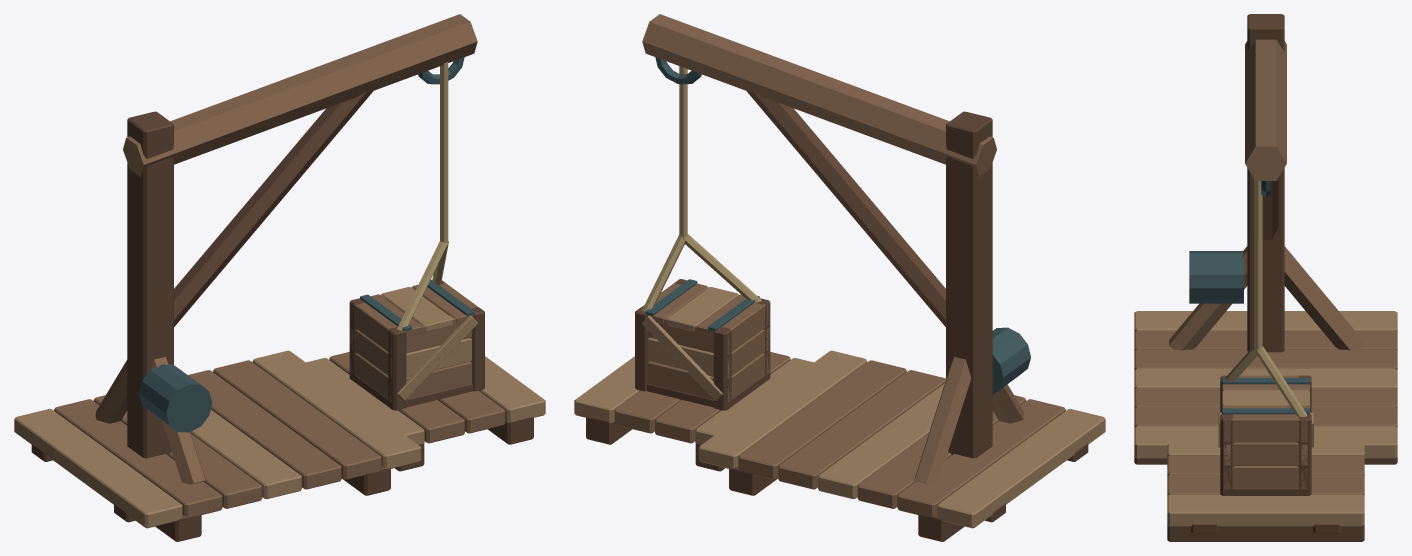
The model's file is dock-crane.glb.
The picture shows the model from 3 angles, left to right: view 1: azimuth 30°, elevation 25°; view 2: azimuth 150°, elevation 25°; view 3: azimuth 270°, elevation 25°; orthographic projection.
Parts seen in each view (by area): view 1: dock-crane__body; view 2: dock-crane__body; view 3: dock-crane__body.
Boxes of the visible parts, x1=… form: dock-crane__body: x1=14, y1=14, x2=545, y2=541; dock-crane__body: x1=574, y1=14, x2=1105, y2=541; dock-crane__body: x1=1134, y1=14, x2=1397, y2=541.
Size of the model in its own units: 2.19 by 1.94 by 1.2.
